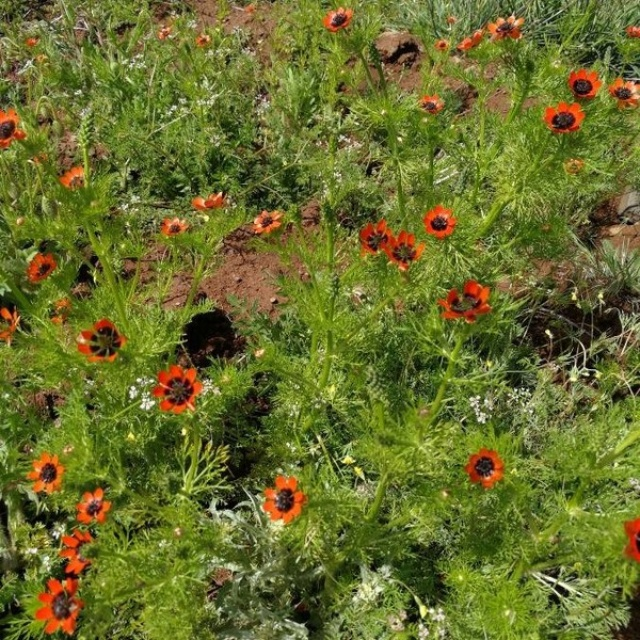obstacle: (32, 57, 612, 626), (345, 203, 505, 336), (36, 307, 222, 416), (403, 411, 544, 527)
